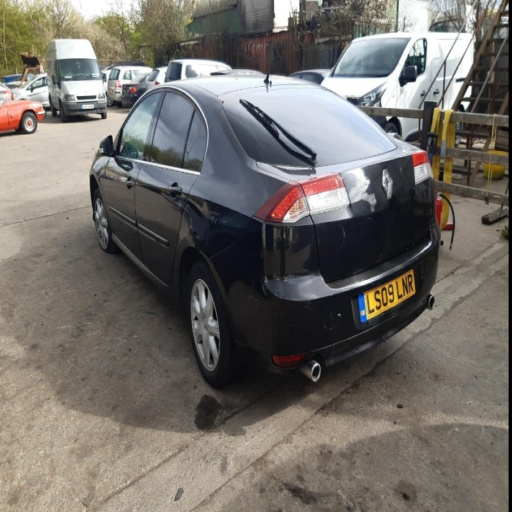scratch: (260, 229, 267, 295), (324, 314, 340, 330), (338, 225, 345, 251), (248, 294, 260, 301), (376, 254, 382, 262), (399, 162, 402, 171), (307, 299, 311, 305), (252, 279, 253, 295), (304, 305, 308, 308), (368, 218, 372, 221), (319, 239, 321, 242), (413, 241, 414, 247), (271, 290, 277, 291), (291, 324, 293, 327), (287, 328, 289, 331), (330, 314, 332, 316), (287, 332, 289, 334), (326, 307, 328, 309), (407, 248, 408, 251), (332, 317, 333, 320), (275, 313, 278, 314), (276, 332, 278, 333), (286, 339, 287, 341), (319, 302, 321, 303), (334, 313, 335, 314), (277, 321, 278, 322), (285, 331, 286, 331), (292, 321, 294, 321)
